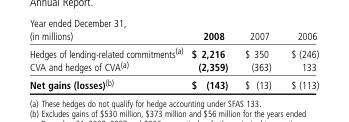table: (28, 29, 318, 90)
table column: (28, 29, 186, 90), (186, 29, 235, 90), (235, 29, 280, 90), (280, 29, 318, 90)
table column header: (28, 29, 318, 43)
table row: (28, 58, 318, 74), (28, 74, 318, 90), (28, 43, 318, 58), (28, 29, 318, 43)
